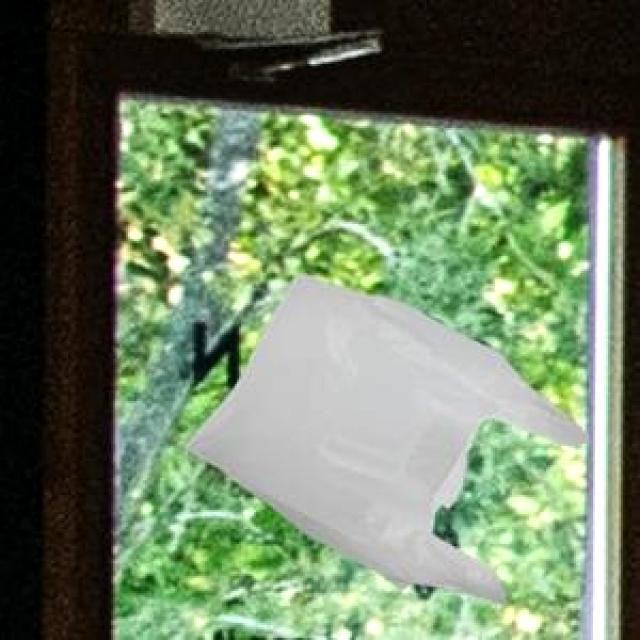Plastic_Bag: (182, 272, 586, 601)
